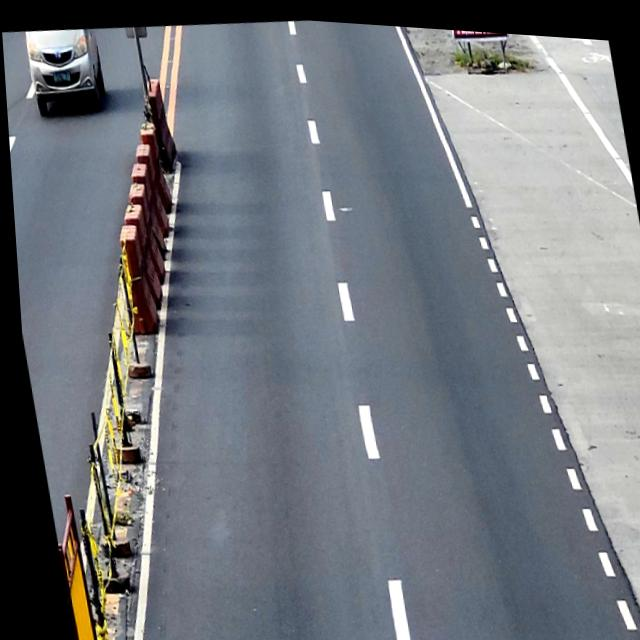Car: (21, 23, 109, 120)
License-Plate: (50, 68, 69, 82)
